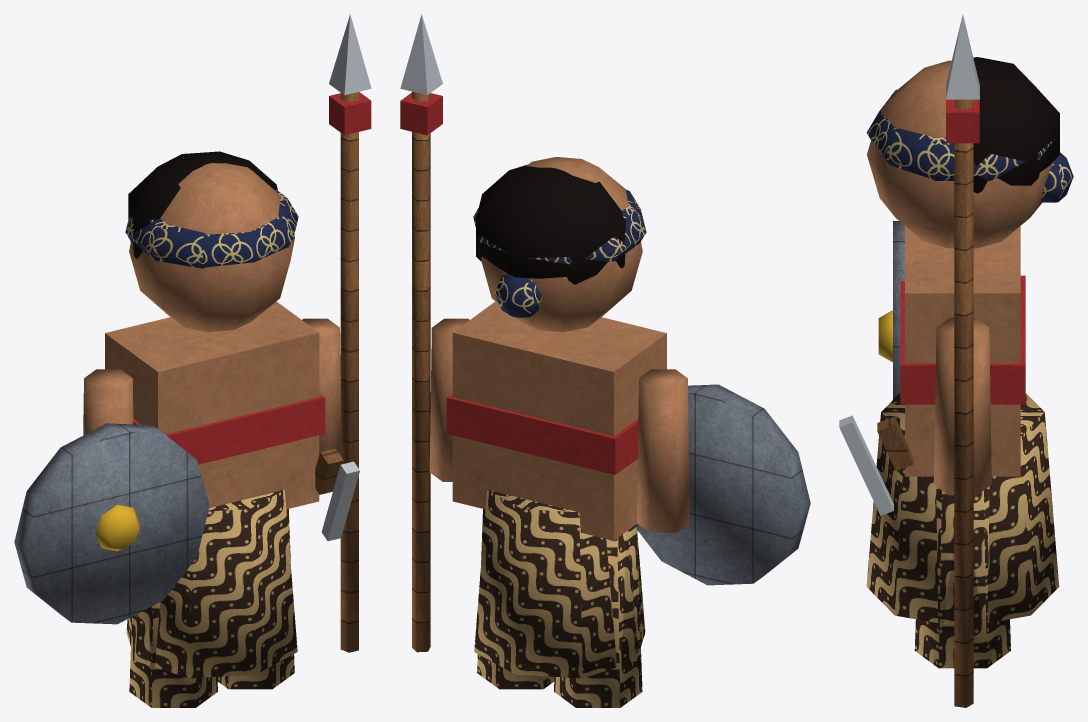
Rendered from prajurit_jawa.glb.
3 renders of one model, left to right at view 1: azimuth 30°, elevation 25°; view 2: azimuth 150°, elevation 25°; view 3: azimuth 270°, elevation 25°, orthographic. The views are drawn at different scales.
Parts seen in each view (by area): view 1: prajurit_jawa; view 2: prajurit_jawa; view 3: prajurit_jawa.
Part boxes in pixels (<box>): prajurit_jawa: <box>14,14,371,707</box>; prajurit_jawa: <box>400,14,810,707</box>; prajurit_jawa: <box>839,14,1073,707</box>.
Bounding box in the file's own units: 0.9654 × 1.58 × 0.4867.
9 materials, 6 textured.
